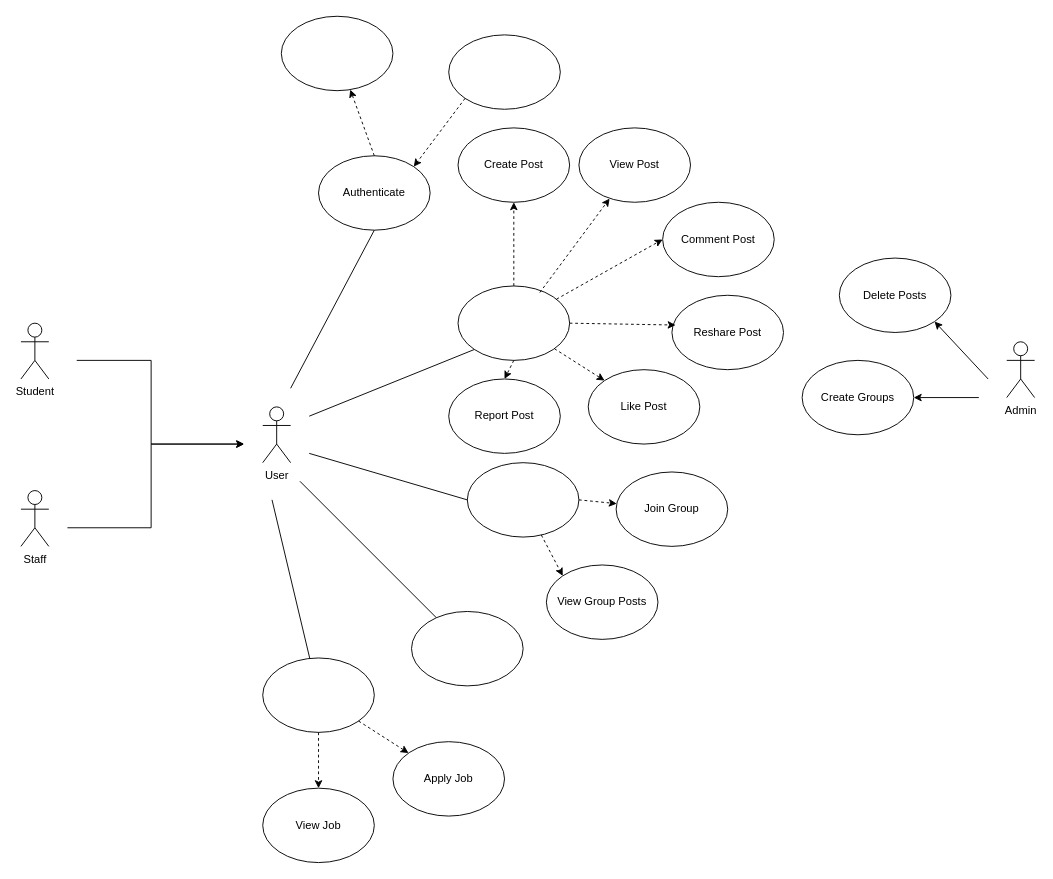
Image size: 1053x879. Some labels were removed from this diagram. Here are the shapes that lost their labels. From the top down, the centre of each, then its label:
(x=336, y=53): Google Sign In
(x=504, y=71): Invalid Username and Password
(x=513, y=322): Interact with Posts
(x=522, y=499): Groups
(x=467, y=648): Message Others
(x=318, y=694): Jobs
